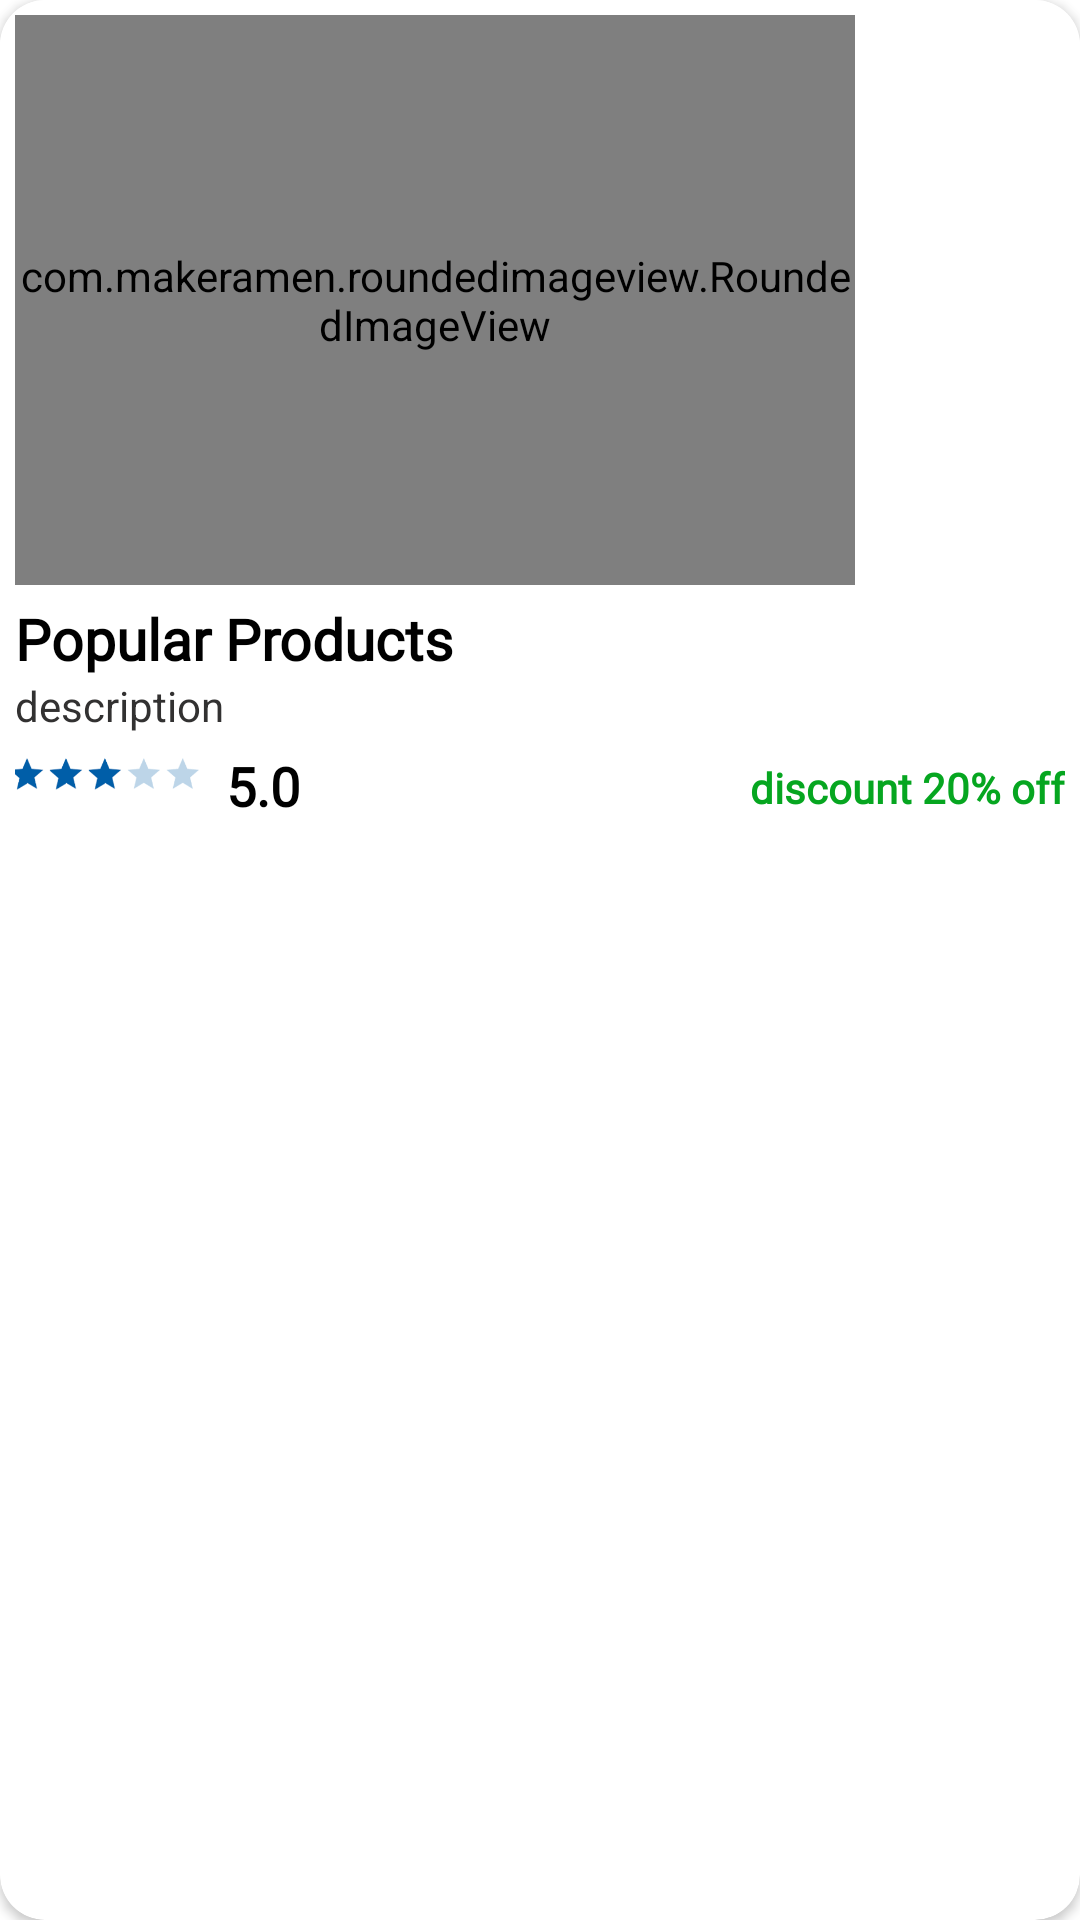

Icon bounding boxes for this 1080w x 1920h phone screenshot, format [x1, y1, x2, y2]:
ratingbar: [15, 758, 198, 790]
